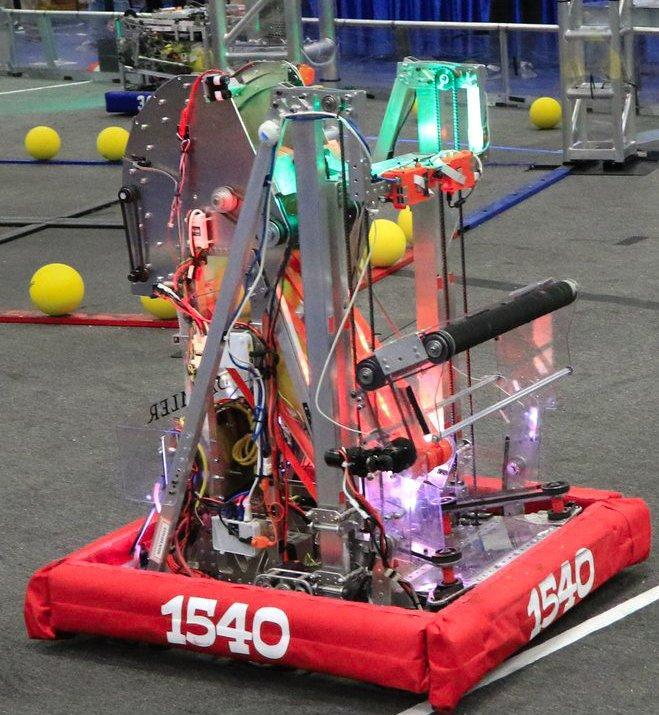robot: (24, 57, 656, 715), (102, 0, 273, 118)
